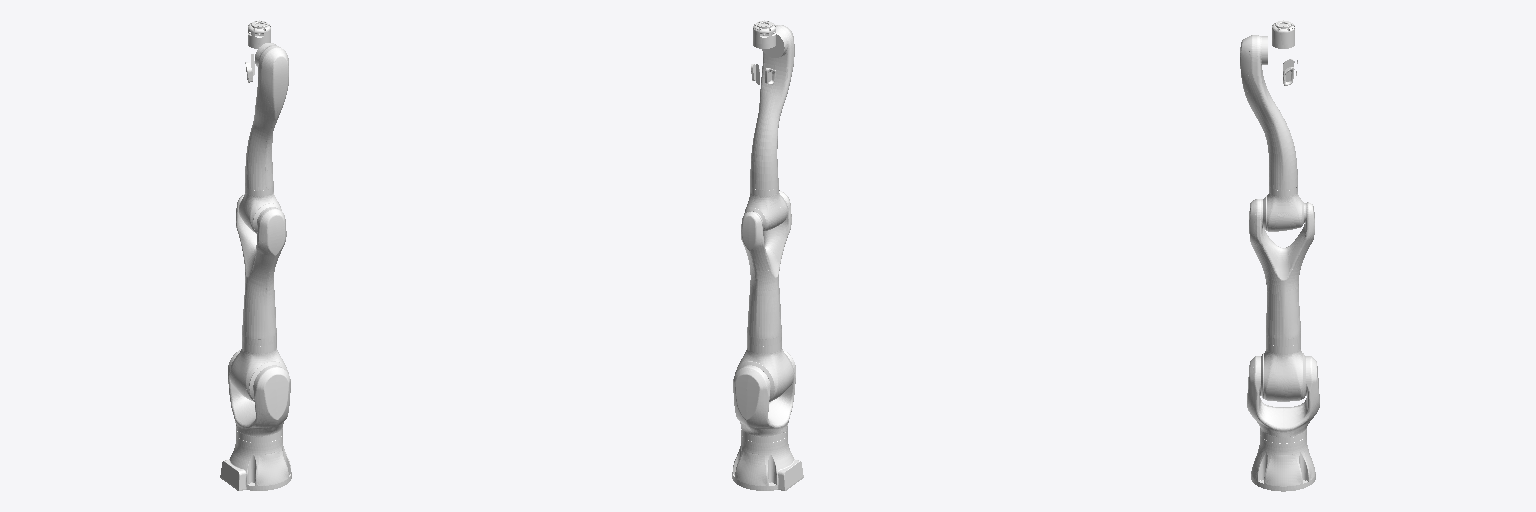
URDF robot description (maira7M):
<?xml version="1.0" encoding="utf-8"?>
<!-- =================================================================================== -->
<!-- |    This document was autogenerated by xacro from maira7M.urdf.xacro             | -->
<!-- |    EDITING THIS FILE BY HAND IS NOT RECOMMENDED                                 | -->
<!-- =================================================================================== -->
<robot name="maira7M" xmlns:controller="http://playerstage.sourceforge.net/gazebo/xmlschema/#controller" xmlns:interface="http://playerstage.sourceforge.net/gazebo/xmlschema/#interface" xmlns:sensor="http://playerstage.sourceforge.net/gazebo/xmlschema/#sensor">
  <material name="blue">
    <color rgba="0 0 0.8 1"/>
  </material>
  <material name="white">
    <color rgba="1 1 1 1"/>
  </material>
  <material name="MelonYellow">
    <color rgba="1.0 0.6 0.0 1.0"/>
  </material>
  <link name="maira7M_root_link"/>
  <joint name="maira7M_root_joint" type="fixed">
    <origin rpy="0 0 1.5708" xyz="0 0 0"/>
    <parent link="maira7M_root_link"/>
    <child link="maira7M_link0"/>
  </joint>
  <link name="maira7M_link0">
    <inertial>
      <mass value="2.133"/>
      <origin rpy="0 0 0" xyz="0.0 0.0 0.0"/>
      <inertia ixx="0.0" ixy="0.0" ixz="0.0" iyy="0.0" iyz="0.0" izz="0.0"/>
    </inertial>
    <visual>
      <origin rpy="0 0 0" xyz="0 0 0"/>
      <geometry>
        <mesh filename="package://neura_robot_description/maira7M/meshes/Link0_body.stl"/>
      </geometry>
      <material name="white"/>
    </visual>
    <collision>
      <origin rpy="0 0 0" xyz="0 0 0"/>
      <geometry>
        <mesh filename="package://neura_robot_description/maira7M/collision/Link0_body.stl"/>
      </geometry>
      <material name="white"/>
    </collision>
  </link>
  <joint name="maira7M_joint1" type="revolute">
    <origin rpy="1.57079632679 0 0" xyz="0 0 0"/>
    <axis xyz="0 1 0"/>
    <limit effort="432" lower="-3.14159" upper="3.14159" velocity="2.0944"/>
    <parent link="maira7M_link0"/>
    <child link="maira7M_link1"/>
  </joint>
  <link name="maira7M_link1">
    <inertial>
      <mass value="10.458"/>
      <origin rpy="0 0 0" xyz="0.013845 0.316366 0.0"/>
      <inertia ixx="0.1615" ixy="-0.0175" ixz="0.0" iyy="17.5" iyz="0.0" izz="0.1942"/>
    </inertial>
    <visual>
      <origin rpy="0 0 0" xyz="0 0 0"/>
      <geometry>
        <mesh filename="package://neura_robot_description/maira7M/meshes/Link1_body.stl"/>
      </geometry>
      <material name="white"/>
    </visual>
    <visual>
      <geometry>
        <mesh filename="package://neura_robot_description/maira7M/meshes/Link1_led.stl"/>
      </geometry>
      <material name="white"/>
    </visual>
    <visual>
      <geometry>
        <mesh filename="package://neura_robot_description/maira7M/meshes/Link1_ring.stl"/>
      </geometry>
      <material name="white"/>
    </visual>
    <collision>
      <origin rpy="0 0 0" xyz="0 0 0"/>
      <geometry>
        <mesh filename="package://neura_robot_description/maira7M/collision/Link1_body.stl"/>
      </geometry>
      <material name="white"/>
    </collision>
  </link>
  <joint name="maira7M_joint2" type="revolute">
    <origin rpy="0 0 4.89652762781e-12" xyz="0 0.438 0"/>
    <axis xyz="1 0 0"/>
    <limit effort="432" lower="-2.0944" upper="2.0944" velocity="2.0944"/>
    <parent link="maira7M_link1"/>
    <child link="maira7M_link2"/>
  </joint>
  <link name="maira7M_link2">
    <inertial>
      <mass value="14.8"/>
      <origin rpy="0 0 0" xyz="-0.05 0.06 -0.035"/>
      <inertia ixx="17.5" ixy="0.0011" ixz="0.0" iyy="0.1615" iyz="0.0" izz="0.12"/>
    </inertial>
    <visual>
      <origin rpy="0 0 0" xyz="0 0 0"/>
      <geometry>
        <mesh filename="package://neura_robot_description/maira7M/meshes/Link2_body.stl"/>
      </geometry>
      <material name="white"/>
    </visual>
    <visual>
      <geometry>
        <mesh filename="package://neura_robot_description/maira7M/meshes/Link2_led.stl"/>
      </geometry>
      <material name="white"/>
    </visual>
    <visual>
      <geometry>
        <mesh filename="package://neura_robot_description/maira7M/meshes/Link2_ring.stl"/>
      </geometry>
      <material name="white"/>
    </visual>
    <collision>
      <origin rpy="0 0 0" xyz="0 0 0"/>
      <geometry>
        <mesh filename="package://neura_robot_description/maira7M/collision/Link2_body.stl"/>
      </geometry>
      <material name="white"/>
    </collision>
  </link>
  <joint name="maira7M_joint3" type="revolute">
    <origin rpy="0 0 -4.89652762781e-12" xyz="0 0 0"/>
    <axis xyz="0 1 0"/>
    <limit effort="217" lower="-3.14159" upper="3.14159" velocity="2.618"/>
    <parent link="maira7M_link2"/>
    <child link="maira7M_link3"/>
  </joint>
  <link name="maira7M_link3">
    <inertial>
      <mass value="11.0"/>
      <origin rpy="0 0 0" xyz="-0.01 0.46 0.0"/>
      <inertia ixx="0.3927" ixy="-0.0251" ixz="0.0" iyy="3.5" iyz="0.0" izz="0.4118"/>
    </inertial>
    <visual>
      <origin rpy="0 0 0" xyz="0 0 0"/>
      <geometry>
        <mesh filename="package://neura_robot_description/maira7M/meshes/Link3_body.stl"/>
      </geometry>
      <material name="white"/>
    </visual>
    <collision>
      <origin rpy="0 0 0" xyz="0 0 0"/>
      <geometry>
        <mesh filename="package://neura_robot_description/maira7M/collision/Link3_body.stl"/>
      </geometry>
      <material name="white"/>
    </collision>
  </link>
  <joint name="maira7M_joint4" type="revolute">
    <origin rpy="0 0 4.89652762781e-12" xyz="0 0.7 0"/>
    <axis xyz="1 0 0"/>
    <limit effort="217" lower="-2.618" upper="2.618" velocity="2.618"/>
    <parent link="maira7M_link3"/>
    <child link="maira7M_link4"/>
  </joint>
  <link name="maira7M_link4">
    <inertial>
      <mass value="5.5"/>
      <origin rpy="0 0 0" xyz="-0.03 -0.01 0.0"/>
      <inertia ixx="3.5" ixy="0.0006" ixz="0.0" iyy="0.0113" iyz="0.0" izz="0.0215"/>
    </inertial>
    <visual>
      <origin rpy="0 0 0" xyz="0 0 0"/>
      <geometry>
        <mesh filename="package://neura_robot_description/maira7M/meshes/Link4_body.stl"/>
      </geometry>
      <material name="white"/>
    </visual>
    <visual>
      <origin rpy="0 0 0" xyz="0 0 0"/>
      <geometry>
        <mesh filename="package://neura_robot_description/maira7M/meshes/Link4_led.stl"/>
      </geometry>
      <material name="white"/>
    </visual>
    <visual>
      <origin rpy="0 0 0" xyz="0 0 0"/>
      <geometry>
        <mesh filename="package://neura_robot_description/maira7M/meshes/Link4_ring.stl"/>
      </geometry>
      <material name="white"/>
    </visual>
    <collision>
      <origin rpy="0 0 0" xyz="0 0 0"/>
      <geometry>
        <mesh filename="package://neura_robot_description/maira7M/collision/Link4_body.stl"/>
      </geometry>
      <material name="white"/>
    </collision>
  </link>
  <joint name="maira7M_joint5" type="revolute">
    <origin rpy="0 0 -4.89652762781e-12" xyz="0 0 0"/>
    <axis xyz="0 1 0"/>
    <limit effort="57" lower="-3.14159" upper="3.14159" velocity="3.8397"/>
    <parent link="maira7M_link4"/>
    <child link="maira7M_link5"/>
  </joint>
  <link name="maira7M_link5">
    <inertial>
      <mass value="8.0"/>
      <origin rpy="0 0 0" xyz="-0.06 0.37 0.0"/>
      <inertia ixx="0.3098" ixy="-0.0624" ixz="0.0" iyy="0.5" iyz="0.0" izz="0.3218"/>
    </inertial>
    <visual>
      <origin rpy="0 0 0" xyz="0 0 0"/>
      <geometry>
        <mesh filename="package://neura_robot_description/maira7M/meshes/Link5_body.stl"/>
      </geometry>
      <material name="white"/>
    </visual>
    <collision>
      <origin rpy="0 0 0" xyz="0 0 0"/>
      <geometry>
        <mesh filename="package://neura_robot_description/maira7M/collision/Link5_body.stl"/>
      </geometry>
      <material name="white"/>
    </collision>
  </link>
  <joint name="maira7M_joint6" type="revolute">
    <origin rpy="0 0 4.89652762781e-12" xyz="0 0.7 0"/>
    <axis xyz="1 0 0"/>
    <limit effort="57" lower="-3.14159" upper="3.14159" velocity="3.8397"/>
    <parent link="maira7M_link5"/>
    <child link="maira7M_link6"/>
  </joint>
  <link name="maira7M_link6">
    <inertial>
      <mass value="4.5"/>
      <origin rpy="0 0 0" xyz="-0.02 -0.04 -0.01"/>
      <inertia ixx="0.5" ixy="-0.0013" ixz="0.0" iyy="0.0085" iyz="0.0" izz="0.0126"/>
    </inertial>
    <visual>
      <origin rpy="0 0 0" xyz="0 0 0"/>
      <geometry>
        <mesh filename="package://neura_robot_description/maira7M/meshes/Link6_body.stl"/>
      </geometry>
      <material name="white"/>
    </visual>
    <visual>
      <origin rpy="0 0 0" xyz="0 0 0"/>
      <geometry>
        <mesh filename="package://neura_robot_description/maira7M/meshes/Link6_led.stl"/>
      </geometry>
      <material name="white"/>
    </visual>
    <visual>
      <origin rpy="0 0 0" xyz="0 0 0"/>
      <geometry>
        <mesh filename="package://neura_robot_description/maira7M/meshes/Link6_ring.stl"/>
      </geometry>
      <material name="white"/>
    </visual>
    <visual>
      <origin rpy="0 0 0" xyz="0 0 0"/>
      <geometry>
        <mesh filename="package://neura_robot_description/maira7M/meshes/Link6_sensors.stl"/>
      </geometry>
      <material name="white"/>
    </visual>
    <collision>
      <origin rpy="0 0 0" xyz="0 0 0"/>
      <geometry>
        <mesh filename="package://neura_robot_description/maira7M/collision/Link6_body.stl"/>
      </geometry>
      <material name="white"/>
    </collision>
  </link>
  <joint name="maira7M_joint7" type="revolute">
    <origin rpy="0 0 -4.89652762781e-12" xyz="0 0 0"/>
    <axis xyz="0 1 0"/>
    <limit effort="37" lower="-3.14159" upper="3.14159" velocity="3.14159"/>
    <parent link="maira7M_link6"/>
    <child link="maira7M_link7"/>
  </joint>
  <link name="maira7M_link7">
    <inertial>
      <mass value="1.173"/>
      <origin rpy="0 0 0" xyz="0.0 0.165 0.0"/>
      <inertia ixx="0.0024" ixy="0.0" ixz="0.0" iyy="0.3" iyz="0.0" izz="0.0024"/>
    </inertial>
    <visual>
      <origin rpy="0 0 0" xyz="0 0 0"/>
      <geometry>
        <mesh filename="package://neura_robot_description/maira7M/meshes/Link7_body.stl"/>
      </geometry>
      <material name="white"/>
    </visual>
    <visual>
      <origin rpy="0 0 0" xyz="0 0 0"/>
      <geometry>
        <mesh filename="package://neura_robot_description/maira7M/meshes/Link7_led.stl"/>
      </geometry>
      <material name="white"/>
    </visual>
    <collision>
      <origin rpy="0 0 0" xyz="0 0 0"/>
      <geometry>
        <mesh filename="package://neura_robot_description/maira7M/collision/Link7_body.stl"/>
      </geometry>
      <material name="white"/>
    </collision>
  </link>
  <link name="maira7M_flange"/>
  <joint name="maira7M_link7_to_flange" type="fixed">
    <origin rpy="-1.57079632679 -1.57079632679 0" xyz="0 0.115 0"/>
    <parent link="maira7M_link7"/>
    <child link="maira7M_flange"/>
  </joint>
  <link name="world"/>
  <joint name="world_joint" type="fixed">
    <parent link="world"/>
    <child link="maira7M_root_link"/>
    <origin rpy="0.0 0.0 0.0" xyz="0.0 0.0 0.0"/>
  </joint>

  <!-- connect gripper to arm -->
  <joint name="robotiq_85_base_joint" type="fixed">
    <parent link="maira7M_flange"/>
    <child link="robotiq_arg2f_base_link"/>
    <origin rpy="0 0.0 0" xyz="0 0 0"/>
  </joint>
  <link name="robotiq_arg2f_base_link">
    <inertial>
      <origin rpy="0 0 0" xyz="8.625E-08 -4.6583E-06 0.03145"/>
      <mass value="0.22652"/>
      <inertia ixx="0.00020005" ixy="-4.2442E-10" ixz="-2.9069E-10" iyy="0.00017832" iyz="-3.4402E-08" izz="0.00013478"/>
    </inertial>
    <visual>
      <origin rpy="0 0 0" xyz="0 0 0"/>
      <geometry>
        <mesh filename="../meshes/robotiq_85/visual/robotiq_arg2f_85_base_link.dae" scale="0.001 0.001 0.001"/>
      </geometry>
      <material name="LightGrey">
        <color rgba="0.7 0.7 0.7 1.0"/>
      </material>
    </visual>
    <collision>
      <origin rpy="0 0 0" xyz="0 0 0"/>
      <geometry>
        <mesh filename="../meshes/robotiq_85/collision/robotiq_arg2f_base_link.stl"/>
      </geometry>
    </collision>
  </link>

  <link name="maira7M_grasptarget">
    <inertial>
      <origin rpy="0 0 0" xyz="0 0 0"/>
      <mass value="1.0"/>
      <inertia ixx="0.001" ixy="0" ixz="0" iyy="0.001" iyz="0" izz="0.001"/>
    </inertial>
  </link>
  <joint name="maira7M_grasptarget_hand" type="fixed">
    <parent link="robotiq_arg2f_base_link"/>
    <child link="maira7M_grasptarget"/>
    <origin rpy="0 0 0" xyz="0 0 0.15"/>
  </joint>

</robot>

--- Facts derived from the render (not from the file) ---
3 views of the same robot in one strip: view 1: azimuth 30°, elevation 25°; view 2: azimuth 150°, elevation 25°; view 3: azimuth 270°, elevation 25° (orthographic).
Model maira7M with 13 links and 12 joints (7 revolute, 5 fixed), rooted at world, posed all joints at 0.
Links seen in each view (by area): view 1: maira7M_link3, maira7M_link5, maira7M_link1, maira7M_link0, maira7M_link2, maira7M_link4, maira7M_link7; view 2: maira7M_link3, maira7M_link5, maira7M_link1, maira7M_link0, maira7M_link2, maira7M_link4, maira7M_link6, maira7M_link7; view 3: maira7M_link3, maira7M_link5, maira7M_link1, maira7M_link0, maira7M_link2, maira7M_link4, maira7M_link7.
Boxes of the visible links, x1=… form: maira7M_link3: x1=236, y1=194, x2=286, y2=346; maira7M_link5: x1=245, y1=45, x2=288, y2=190; maira7M_link1: x1=228, y1=350, x2=290, y2=442; maira7M_link0: x1=220, y1=435, x2=291, y2=490; maira7M_link2: x1=229, y1=340, x2=288, y2=401; maira7M_link4: x1=239, y1=186, x2=281, y2=233; maira7M_link7: x1=248, y1=20, x2=270, y2=48; maira7M_link3: x1=741, y1=190, x2=791, y2=346; maira7M_link5: x1=750, y1=25, x2=794, y2=190; maira7M_link1: x1=733, y1=350, x2=795, y2=442; maira7M_link0: x1=732, y1=435, x2=803, y2=490; maira7M_link2: x1=735, y1=340, x2=794, y2=401; maira7M_link4: x1=744, y1=186, x2=787, y2=231; maira7M_link6: x1=751, y1=30, x2=787, y2=84; maira7M_link7: x1=753, y1=20, x2=775, y2=48; maira7M_link3: x1=1249, y1=199, x2=1314, y2=346; maira7M_link5: x1=1240, y1=35, x2=1297, y2=190; maira7M_link1: x1=1247, y1=356, x2=1319, y2=443; maira7M_link0: x1=1251, y1=435, x2=1315, y2=491; maira7M_link2: x1=1261, y1=341, x2=1305, y2=401; maira7M_link4: x1=1263, y1=186, x2=1303, y2=231; maira7M_link7: x1=1272, y1=20, x2=1294, y2=48.
Size in the robot's own frame: 0.2602 by 0.3122 by 1.95 metres.
Meshes: 19 distinct files referenced, 17 mesh visuals loaded (17 binary STL); not drawn: 2 (reference not matched to a file when rendering).
